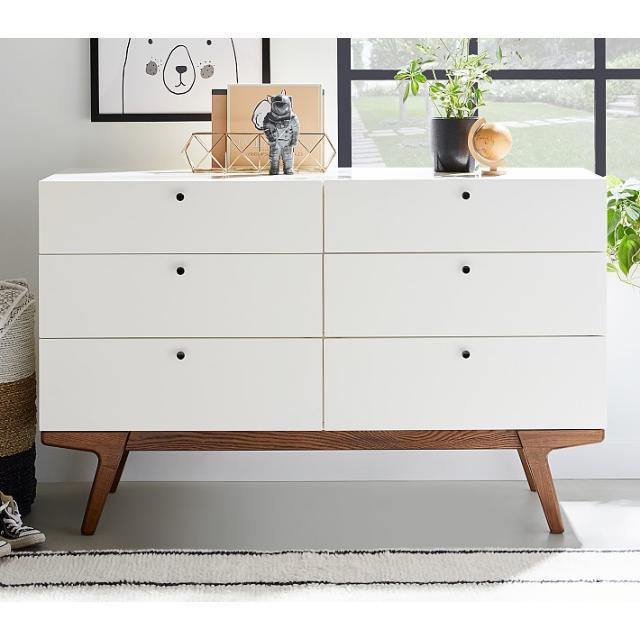dresser: (27, 151, 609, 543)
